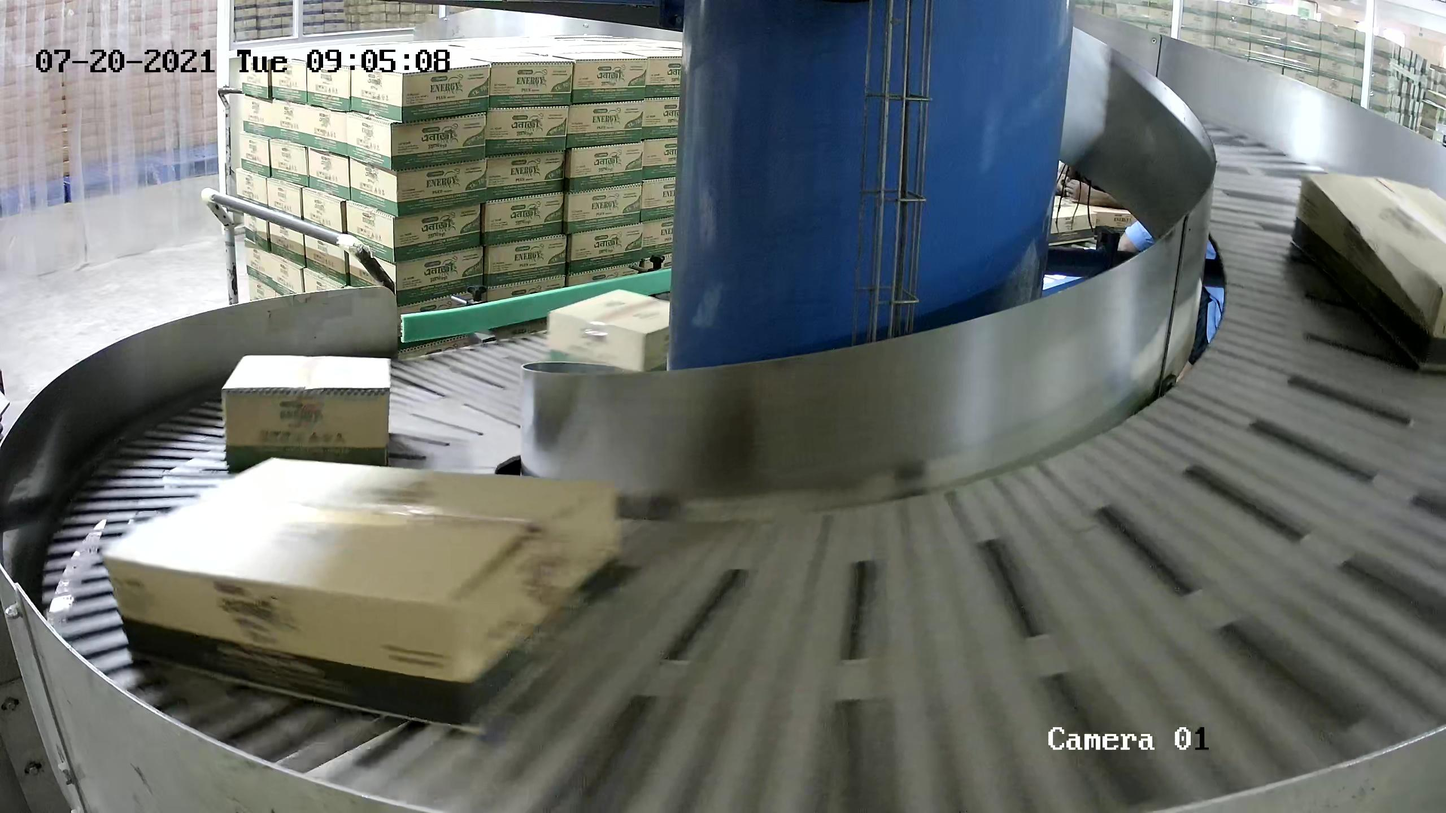Box: (100, 455, 624, 736), (1290, 172, 1446, 373), (222, 353, 391, 469), (547, 288, 669, 372)
